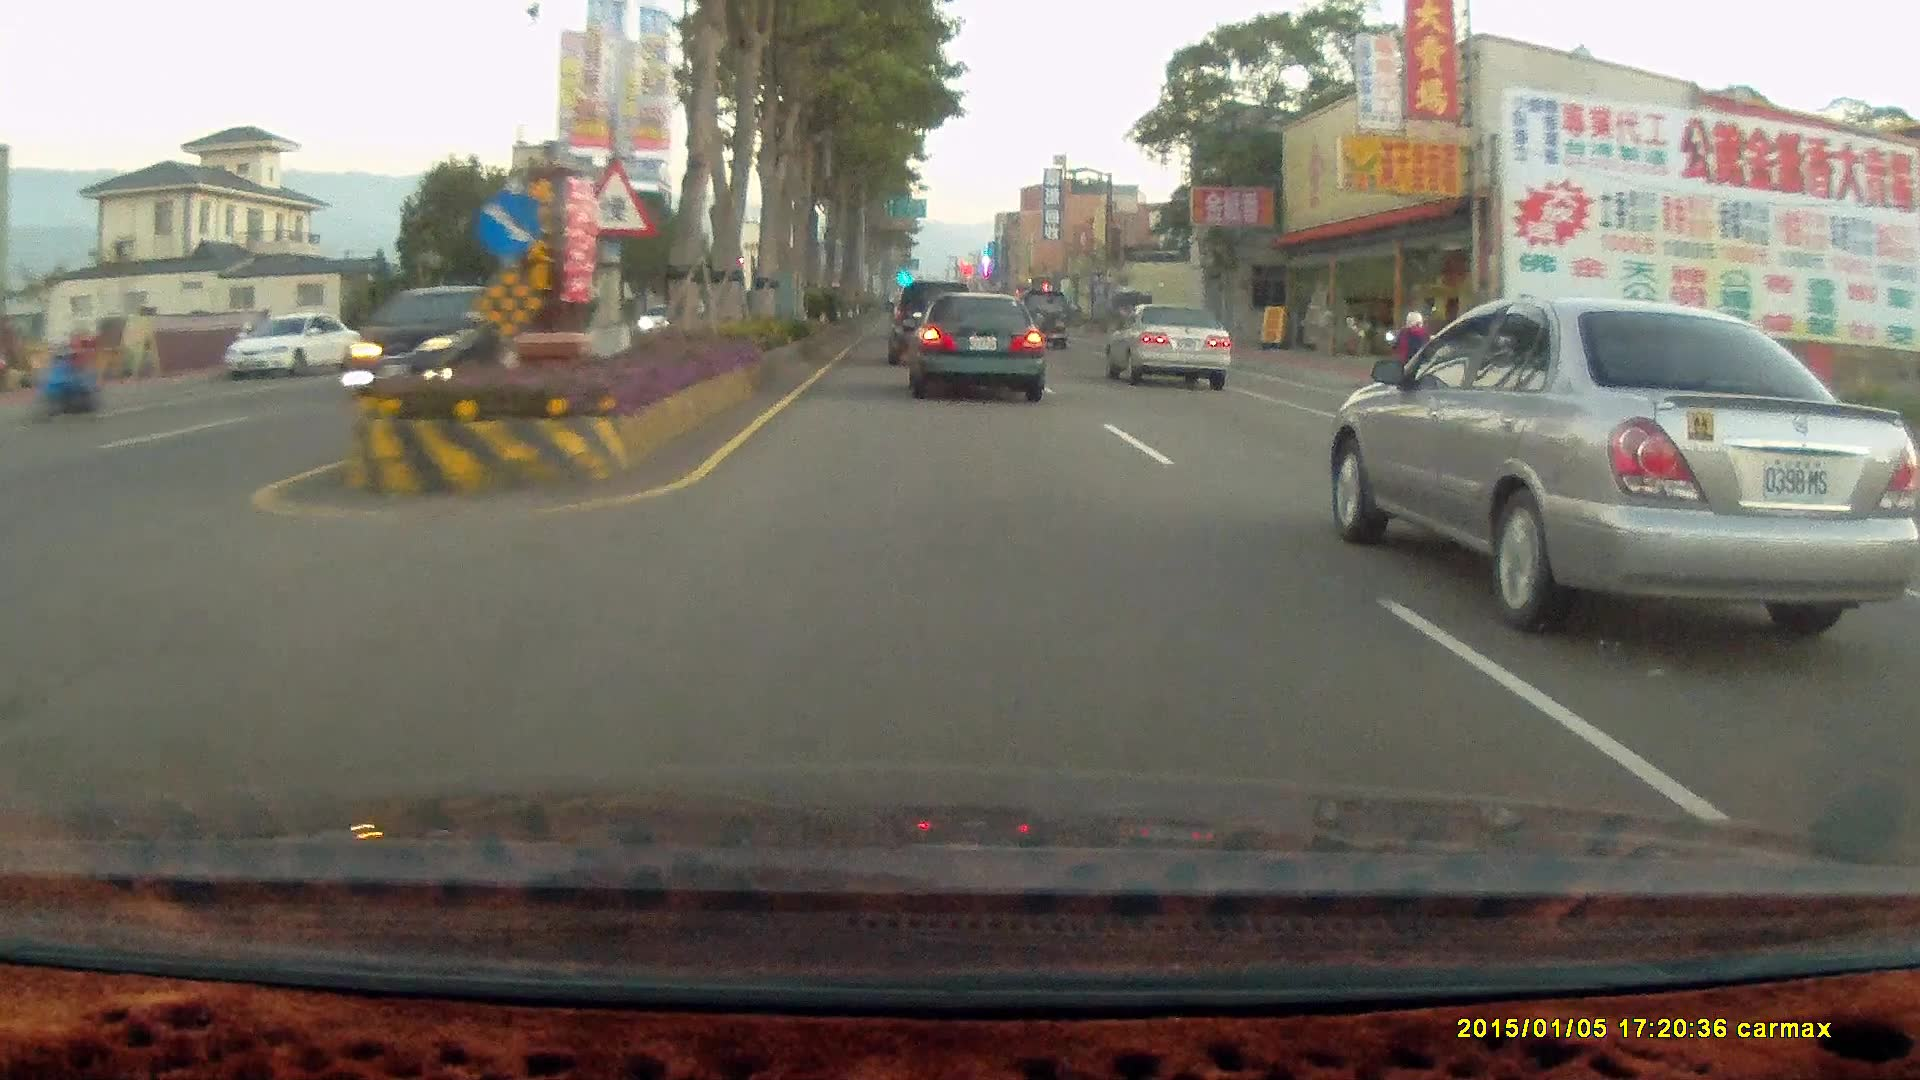rider: (1375, 298, 1449, 420), (33, 314, 104, 425), (1383, 323, 1437, 431)
vehicle: (1344, 288, 1920, 633), (340, 286, 528, 402), (907, 288, 1051, 405), (902, 287, 1046, 399), (1107, 303, 1236, 390), (1103, 301, 1231, 387), (228, 312, 360, 385), (222, 310, 352, 381), (885, 281, 978, 370), (887, 280, 973, 365), (1011, 287, 1070, 349)
